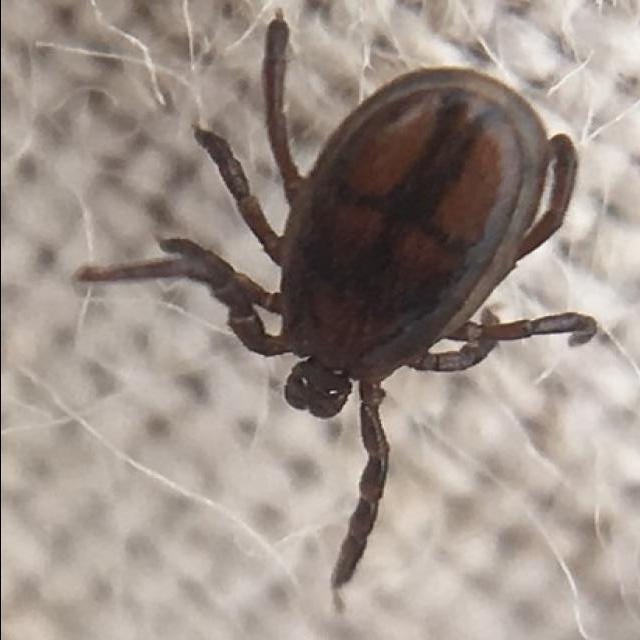Ixodes Ricinus-M: (73, 23, 584, 591)
